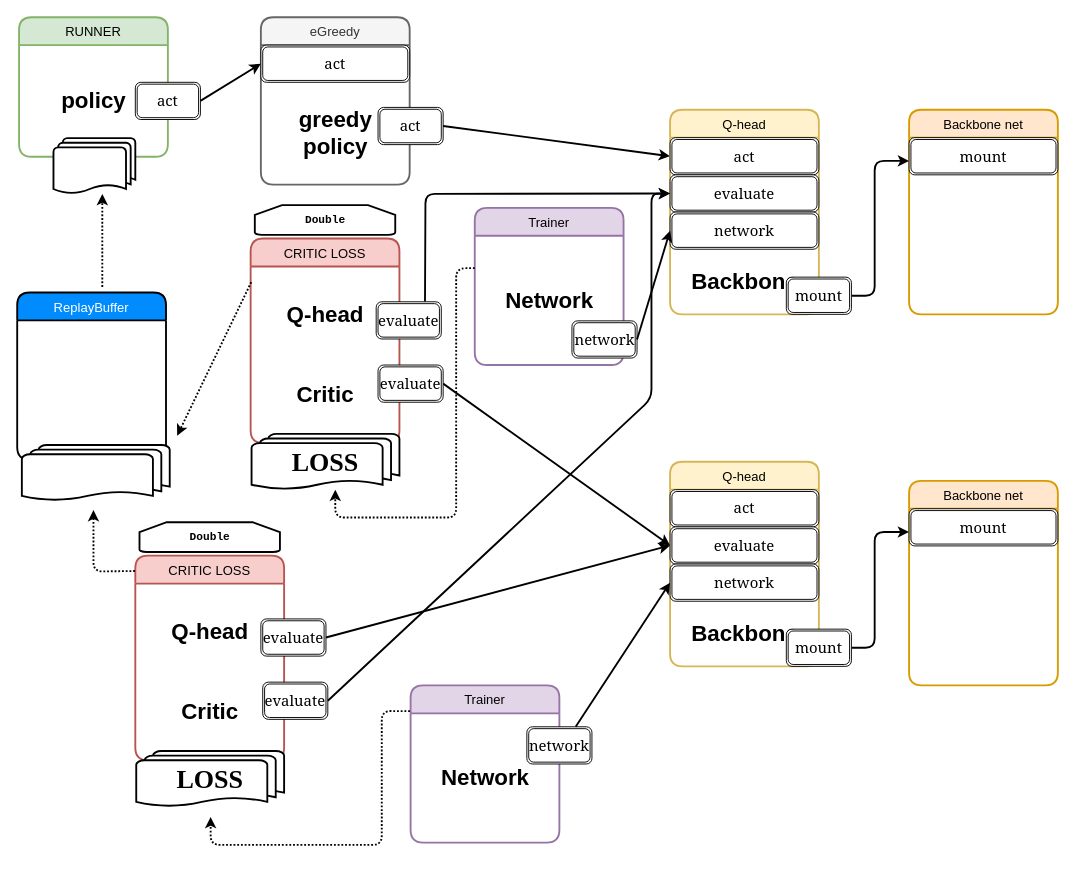
The diagram is 1074 pixels wide and 869 high, and some of its shapes have lost their labels. Here are the shapes that lost their labels. From the top down, the centre of each, then its label:
the point at 94,165: SEE
the point at 95,472: SAMPLE
